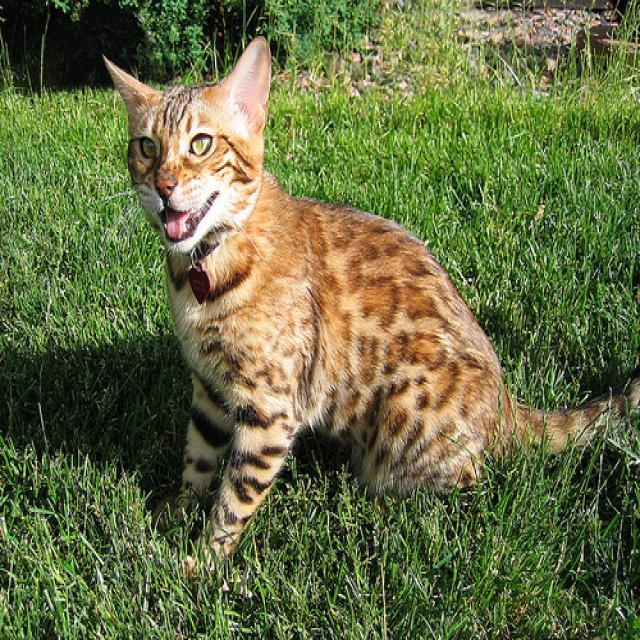Bengal: (99, 53, 278, 259)
